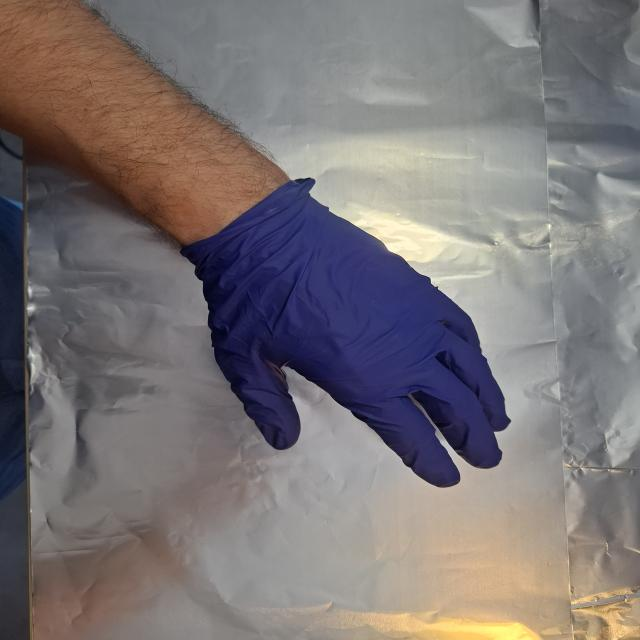glove_on: (180, 178, 514, 491)
